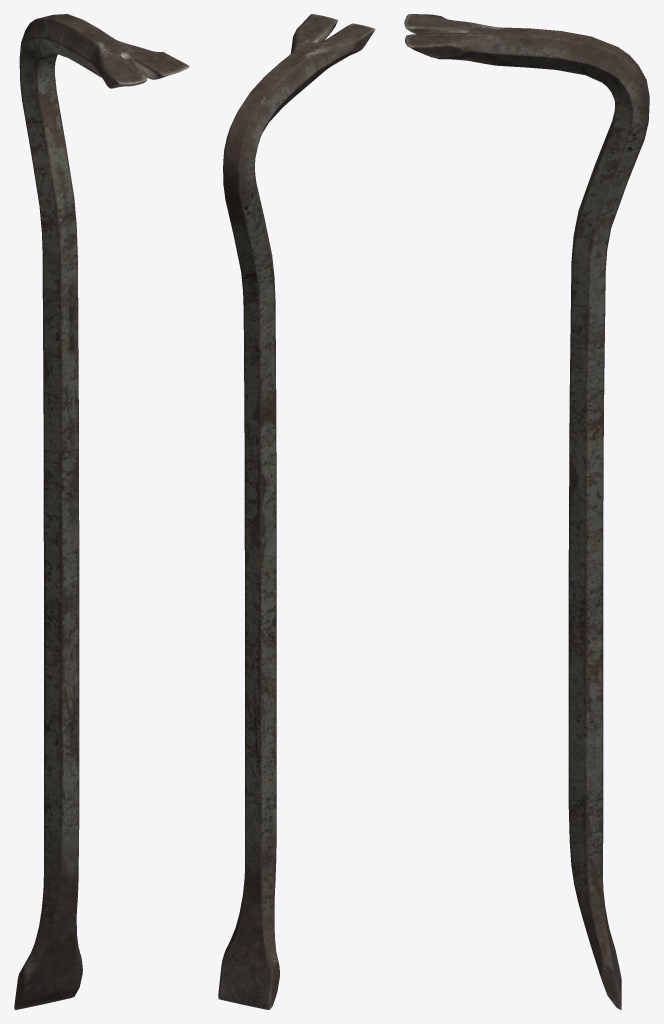
File: crowbar_01.glb
3 renders of one model, left to right at view 1: azimuth 30°, elevation 25°; view 2: azimuth 150°, elevation 25°; view 3: azimuth 270°, elevation 25°, orthographic. The views are drawn at different scales.
Parts seen in each view (by area): view 1: crowbar_01; view 2: crowbar_01; view 3: crowbar_01.
Boxes of the visible parts, x1,y1,x2,y2 form: crowbar_01: (14,14,189,1009); crowbar_01: (218,14,375,1009); crowbar_01: (404,14,649,1009).
Bounding box in the file's own units: 0.0404 × 0.5554 × 0.1276.
Materials: 1 (1 with a texture image).
